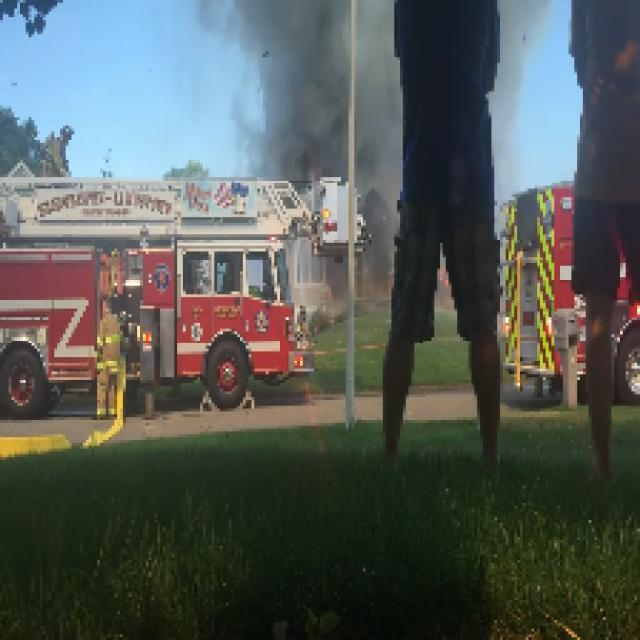Smoke: (200, 2, 403, 294), (494, 3, 546, 140)
